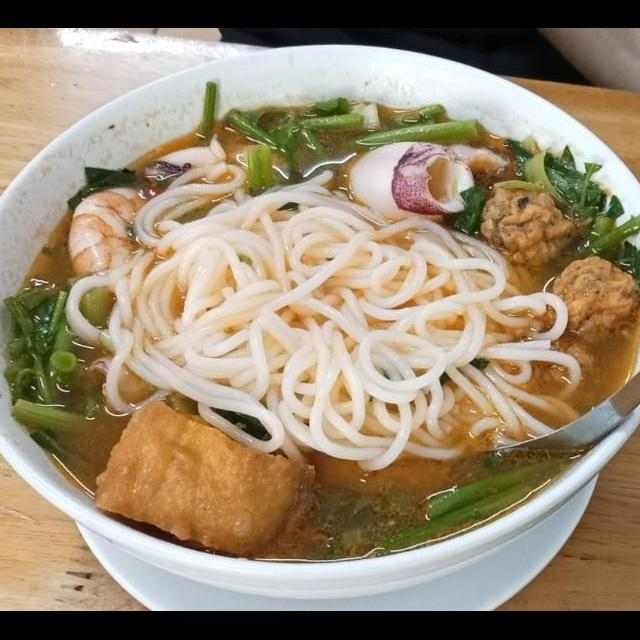bun: (57, 160, 587, 478)
dau hu: (90, 398, 321, 560)
muc: (340, 136, 514, 226), (136, 128, 233, 194)
tom: (63, 180, 180, 298)
